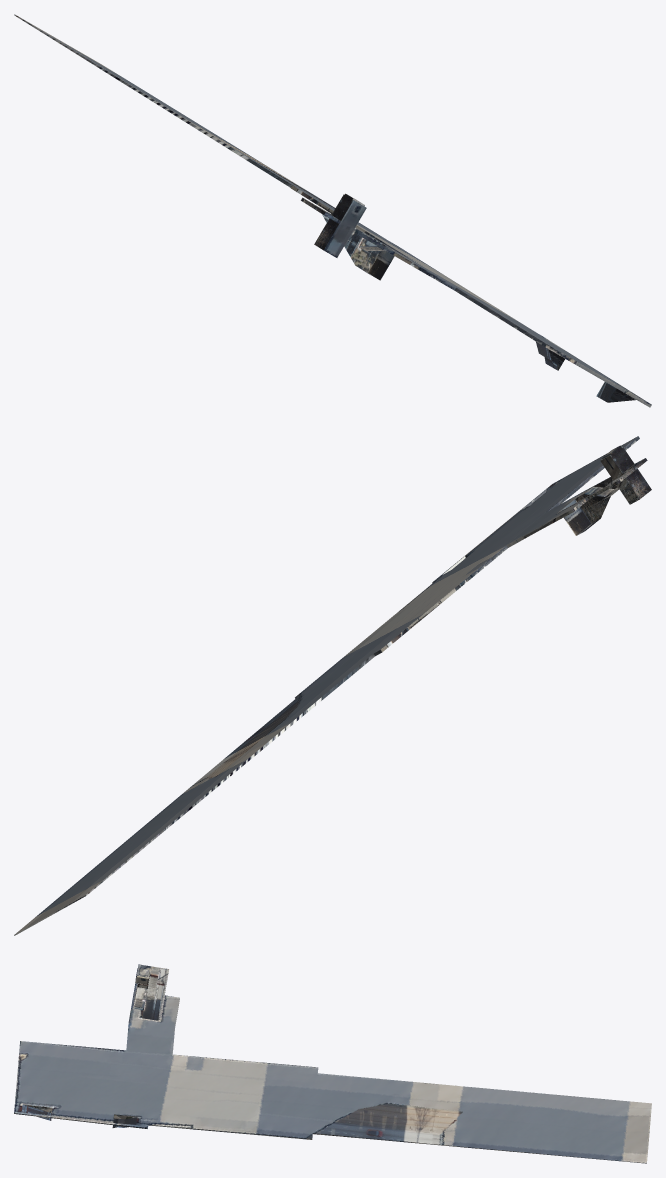
3 views of the same model, one above another, from view 1: azimuth 30°, elevation 25°; view 2: azimuth 150°, elevation 25°; view 3: azimuth 270°, elevation 25° (orthographic). The views are drawn at different scales.
Visible parts, largest first — view 1: BAG_0599100000638397 (×4); view 2: BAG_0599100000638397 (×4); view 3: BAG_0599100000638397 (×5).
Boxes of the visible parts, left/top/right/bottom form: BAG_0599100000638397 (×4): left=14, top=14, right=651, bottom=407; BAG_0599100000638397 (×4): left=14, top=436, right=651, bottom=935; BAG_0599100000638397 (×5): left=14, top=964, right=651, bottom=1163.
Size of the model in its own units: 39.07 by 39.52 by 163.
7 materials, 7 textured.
